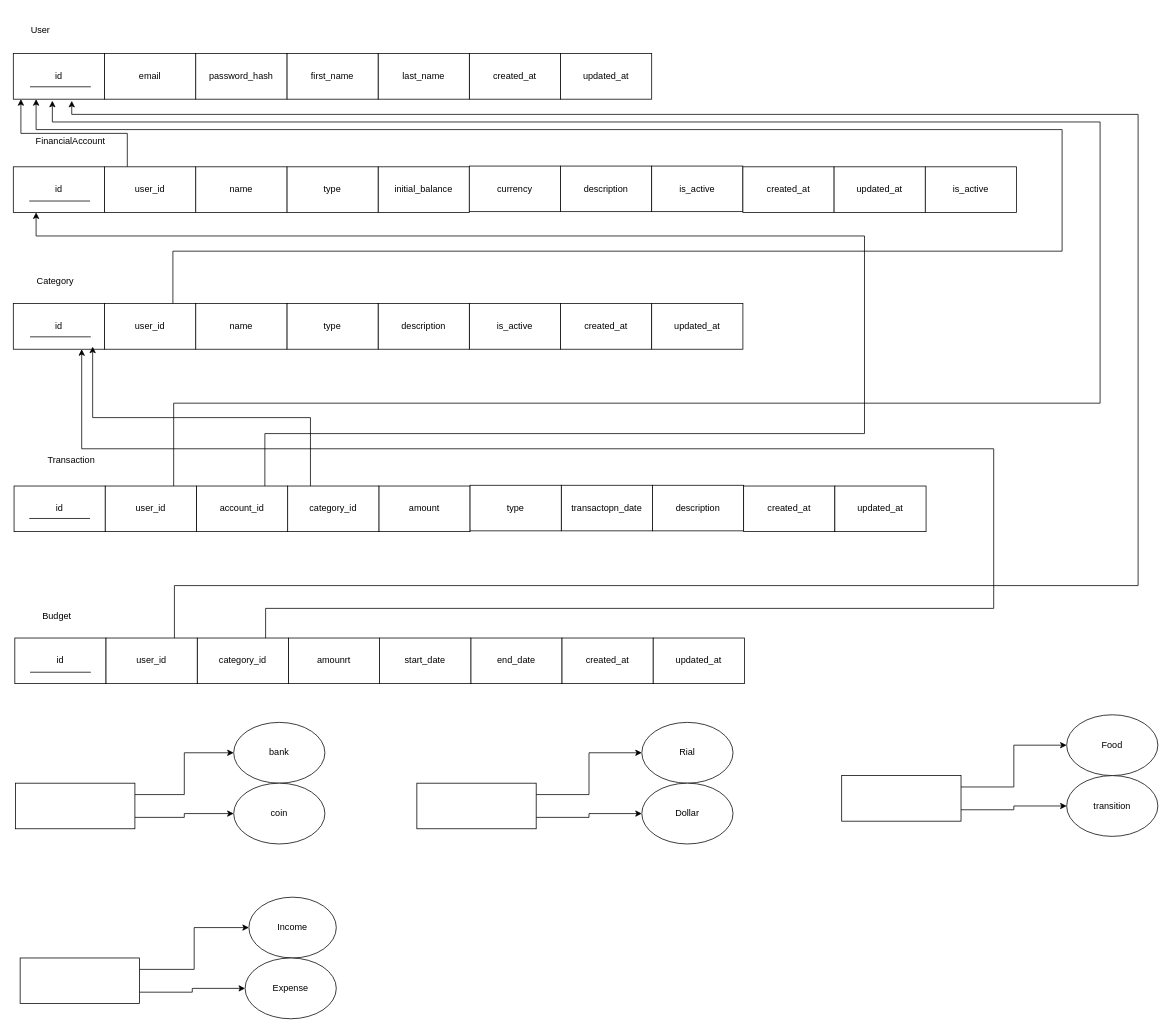
Image size: 1171x1032. Some labels were removed from this diagram. Here are the shapes that lost their labels. From the top down, the centre of each, then its label:
At point (75, 805): "FinancialAccount_type".
At point (476, 805): "FinancialAccount_cirrency".
At point (901, 798): "Category_type".
At point (79, 980): "Transaction_type".
